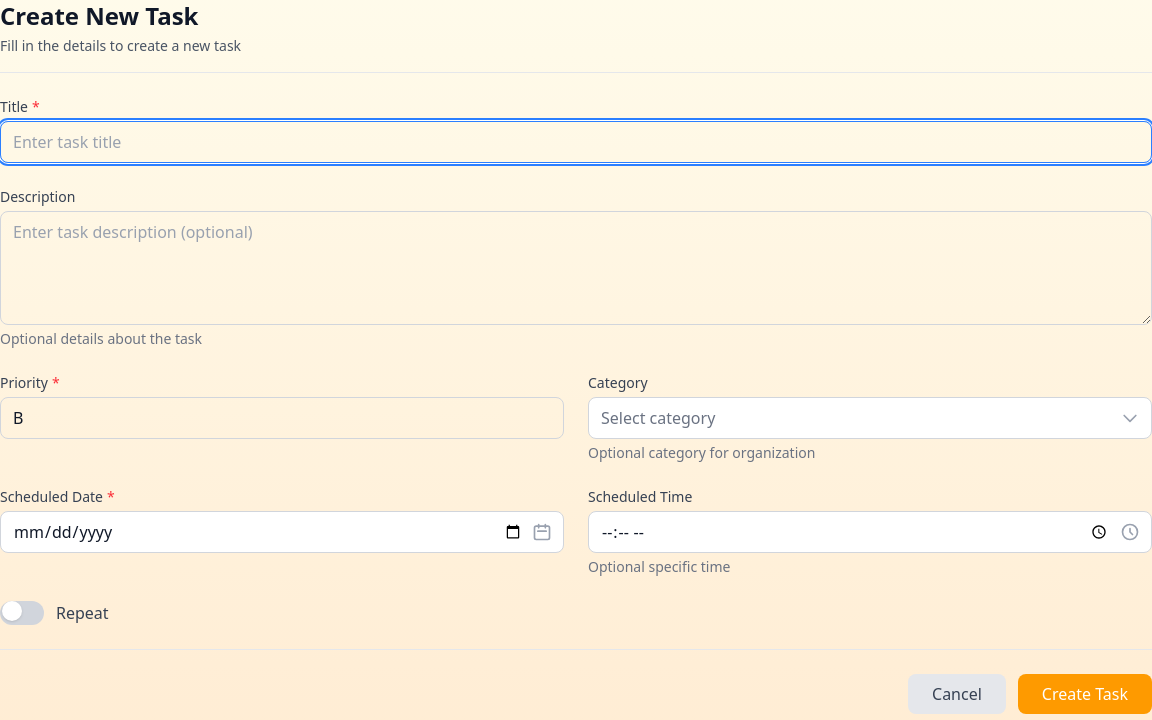
TaskForm - Field Interactions › Recurrence Integration › should show RecurrenceForm when Repeat toggle is enabled
The image size is (1152, 720).
Step 1. Click the switch with test id "repeat-toggle" → x=22, y=613, box top-left (0, 601), bottom-right (44, 625)
(page scrolled)
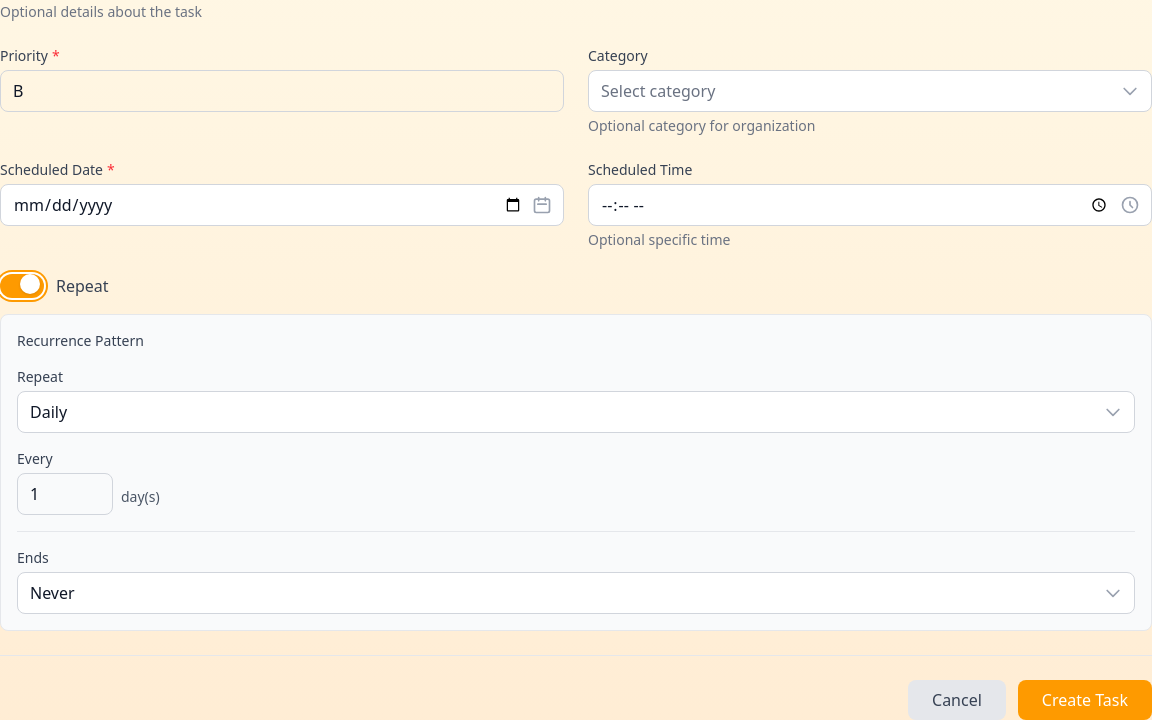
Result: the element with test id "task-recurrence-form" is shown at top-left (0, 314), bottom-right (1151, 631)
